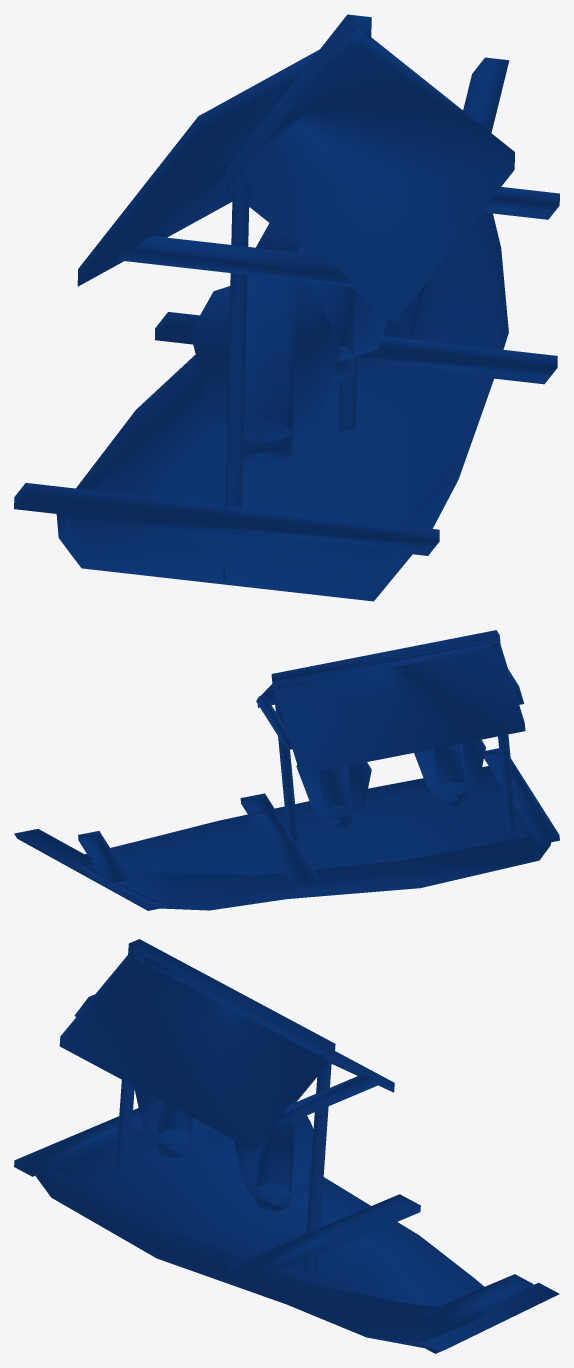
File: ps2_save-icons_yomigaeri.glb
3 views of the same model, one above another, from view 1: azimuth 30°, elevation 25°; view 2: azimuth 150°, elevation 25°; view 3: azimuth 270°, elevation 25° (orthographic). The views are drawn at different scales.
Visible parts, largest first — view 1: yomi.ico; view 2: yomi.ico; view 3: yomi.ico.
Boxes of the visible parts, x1,y1,x2,y2 form: yomi.ico: [14, 14, 559, 601]; yomi.ico: [14, 630, 559, 910]; yomi.ico: [14, 939, 559, 1353].
Bounding box in the file's own units: 4.72 × 2.68 × 4.72.
Materials: 1 (1 with a texture image).
